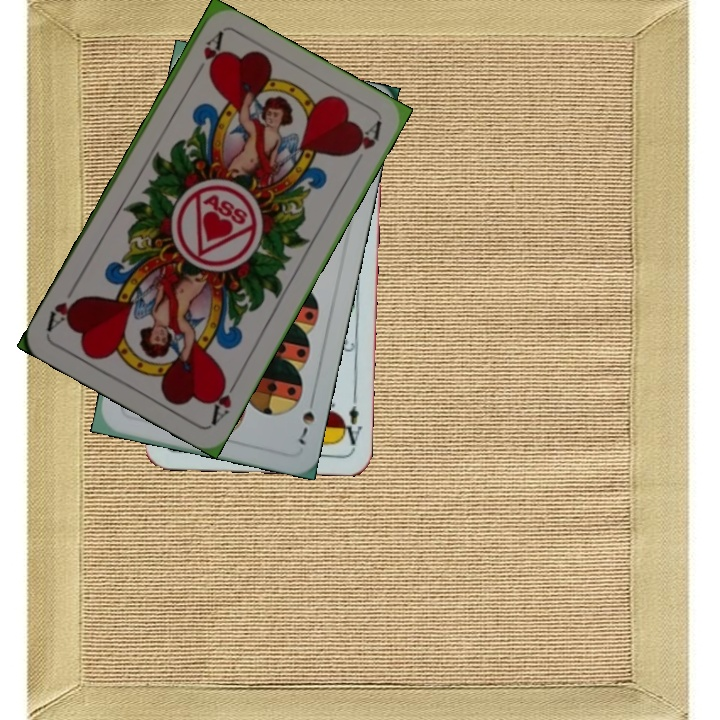EA: (337, 390, 365, 448)
HA: (206, 372, 242, 427), (189, 29, 225, 84)
S7: (294, 392, 317, 448)
